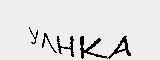А: (108, 34, 135, 60)
К: (76, 35, 106, 60)
Л: (39, 33, 58, 54)
Н: (54, 33, 76, 58)
У: (25, 26, 39, 46)
